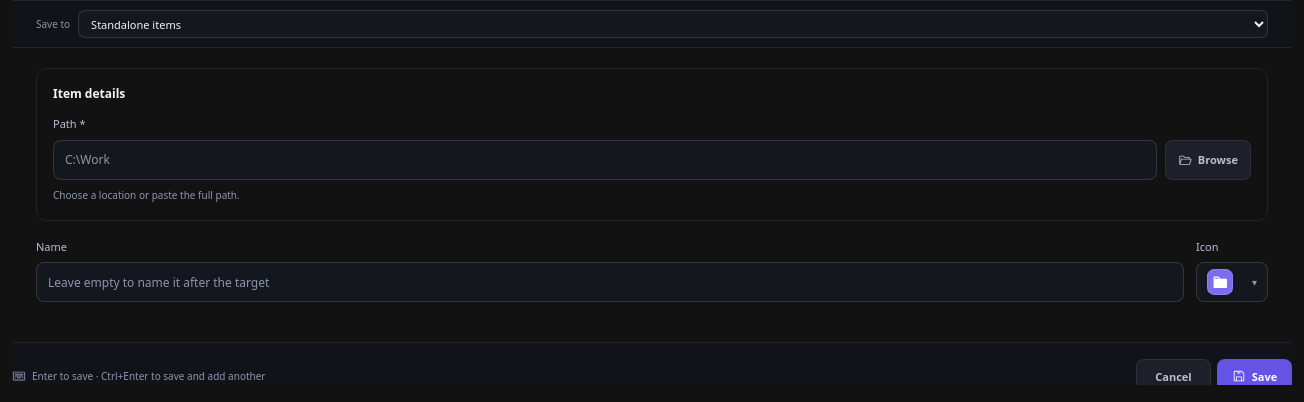
Test: the add form › naming an entry after its target › cleans the target and names the entry when the field is left, for what was typed
Type "  \"D:\\Photos\\2024\"  " into the field with test id "item-path-input".
click(605, 160); type("  \"D:\\Photos\\2024\"  ")  # box [53, 140, 1157, 180]
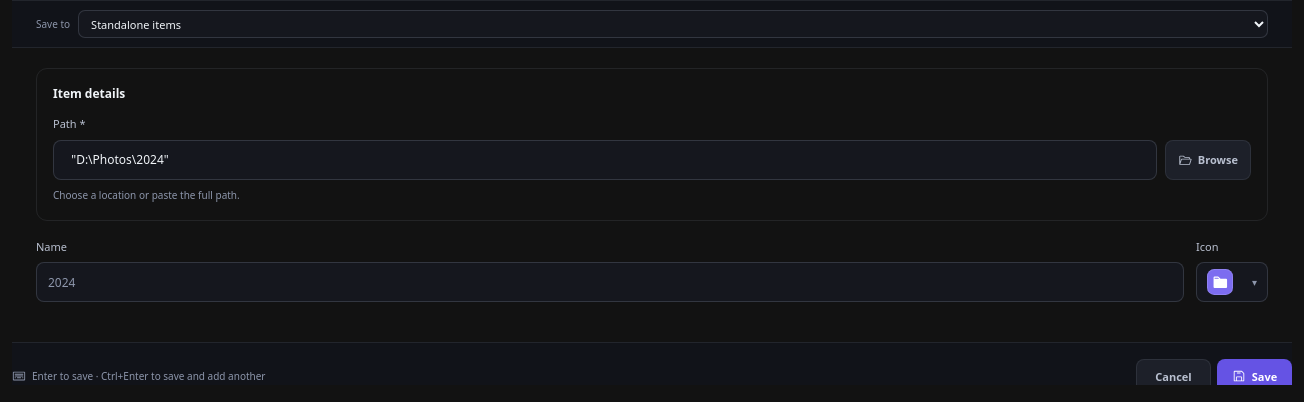
Leave the field with test id "item-path-input", box [53, 140, 1157, 180]
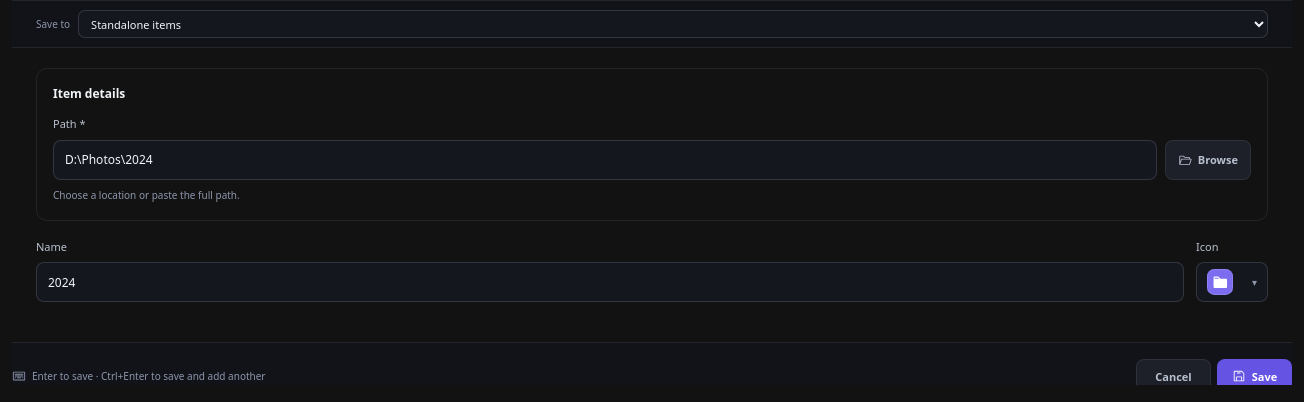
Now the field with test id "item-path-input" holds "D:\\Photos\\2024", box [53, 140, 1157, 180]
Now the field with test id "item-name-input" holds "2024", box [36, 262, 1184, 302]
